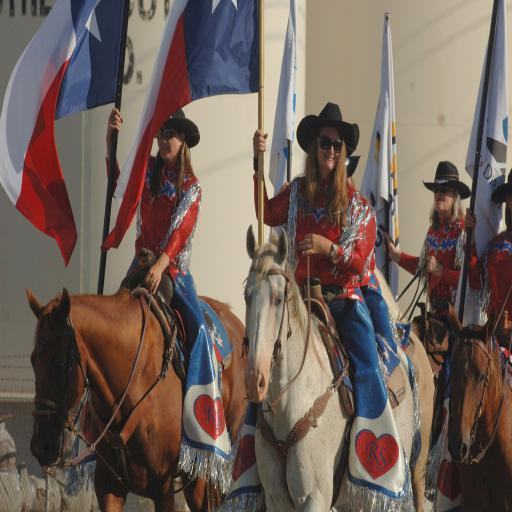horse: (242, 222, 436, 512), (26, 286, 252, 512), (447, 302, 512, 512), (408, 319, 448, 498)
